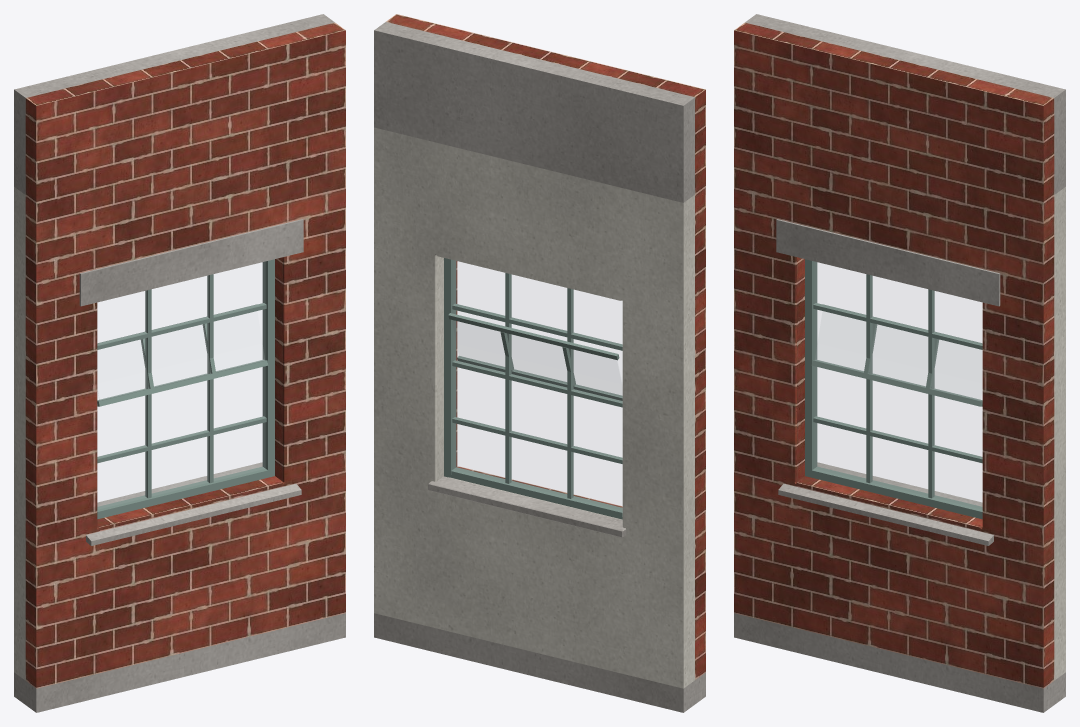
The model's file is w_win.glb.
3 renders of one model, left to right at view 1: azimuth 30°, elevation 25°; view 2: azimuth 150°, elevation 25°; view 3: azimuth 330°, elevation 25°, orthographic.
Visible parts, largest first — view 1: w_win_brick, folha_glass, w_win_concrete, folha_frame, w_win_plaster, w_win_glass, w_win_frame; view 2: w_win_plaster, w_win_concrete, folha_glass, folha_frame, w_win_brick, w_win_glass, w_win_frame; view 3: w_win_brick, folha_glass, w_win_concrete, folha_frame, w_win_plaster, w_win_glass, w_win_frame.
Boxes of the visible parts, x1,y1,x2,y2 form: w_win_brick: [25, 22, 345, 688]; folha_glass: [98, 262, 264, 508]; w_win_concrete: [14, 14, 345, 712]; folha_frame: [97, 259, 274, 519]; w_win_plaster: [14, 187, 25, 680]; w_win_glass: [98, 344, 264, 399]; w_win_frame: [97, 304, 268, 406]; w_win_plaster: [374, 127, 694, 688]; w_win_concrete: [374, 22, 705, 712]; folha_glass: [454, 261, 621, 509]; folha_frame: [444, 258, 622, 519]; w_win_brick: [386, 14, 705, 679]; w_win_glass: [452, 320, 621, 383]; w_win_frame: [448, 313, 622, 398]; w_win_brick: [734, 22, 1054, 688]; folha_glass: [815, 262, 981, 508]; w_win_concrete: [734, 14, 1065, 712]; folha_frame: [805, 259, 982, 519]; w_win_plaster: [1054, 187, 1065, 680]; w_win_glass: [815, 344, 981, 399]; w_win_frame: [811, 304, 982, 406].
Size of the model in its own units: 2 by 3.75 by 0.35.
Materials: 5 (3 with a texture image).
